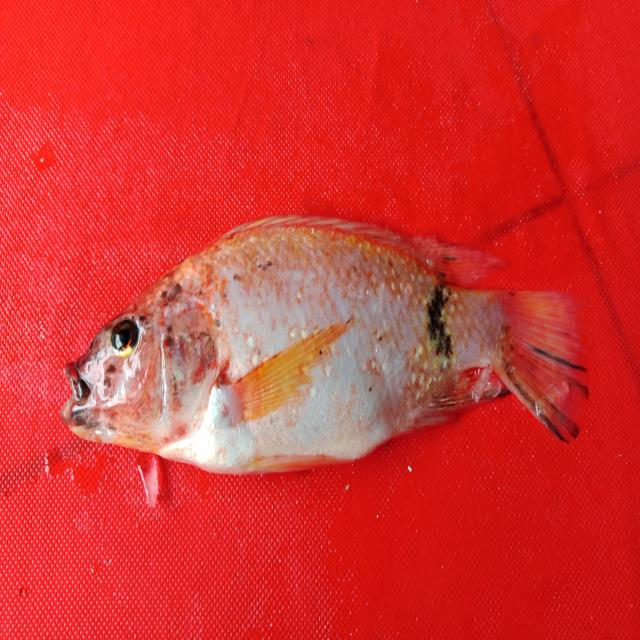ikan: (50, 198, 601, 483)
